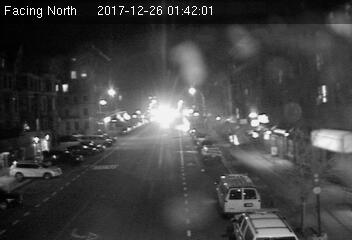car: (201, 146, 226, 165)
truck: (228, 205, 297, 240), (214, 172, 262, 213)
